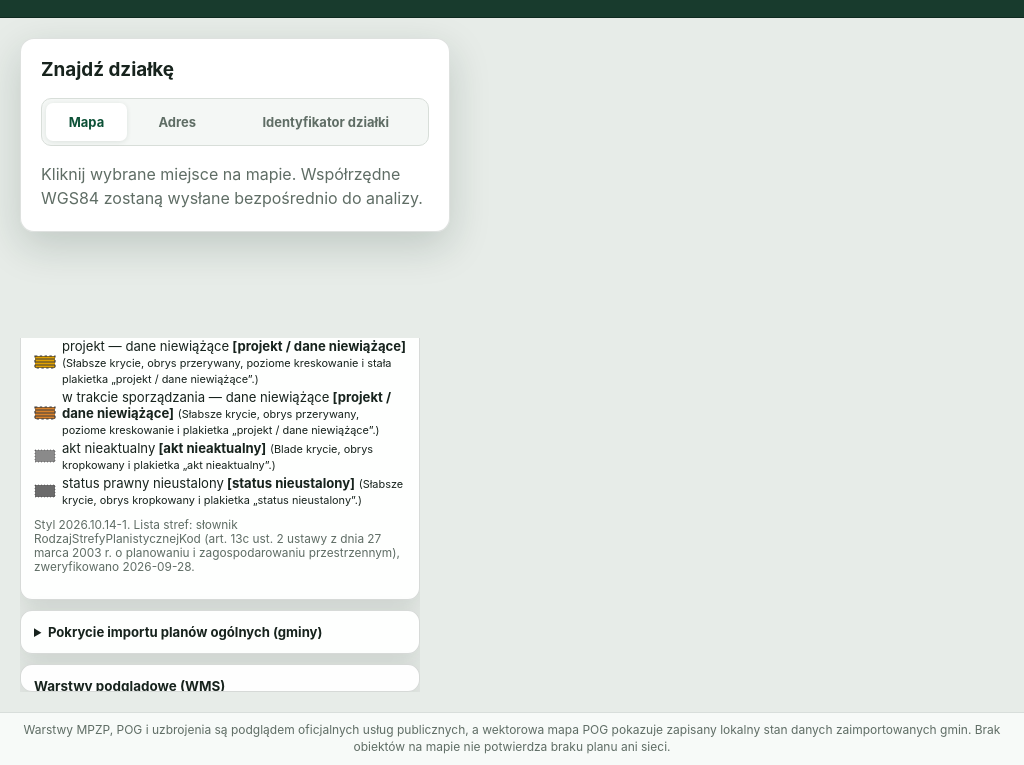
Mapa analityczna POG — scenariusz końcowy › issue 301: panel pokrycia pobiera listę dopiero po rozwinięciu i rozróżnia stany gmin bez „brak planu”
(page scrolled)
Click the heading "Pokrycie importu planów ogólnych (gminy)" at point(185, 632), box [48,624,322,640]
(page scrolled)
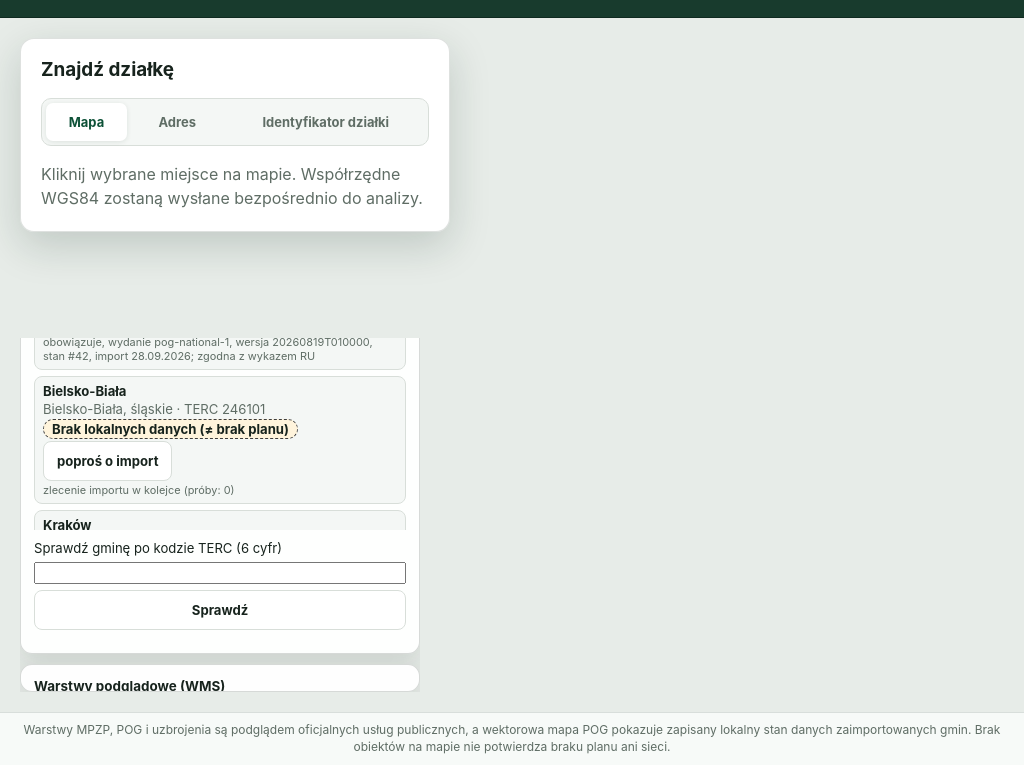
Expected: the list item with test id "pog-coverage-item" shows "Brak lokalnych danych (≠ brak planu)", [52,422,289,438]
Expected: the list item with test id "pog-coverage-item" shows "zlecenie importu w kolejce", [43,484,234,498]
Type "246101" into the field labelled "Sprawdź gminę po kodzie TERC (6 cyfr)" at point(220, 574), box [34,562,406,584]
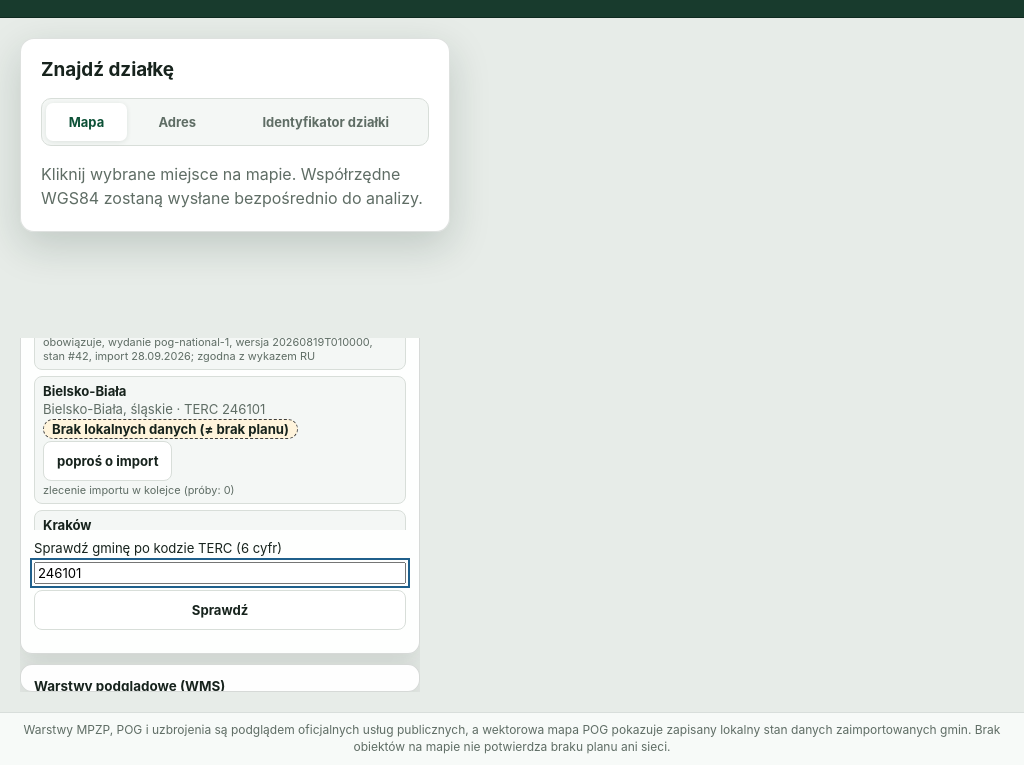
Click the button "Sprawdź" at point(220, 610), box [34,590,406,630]
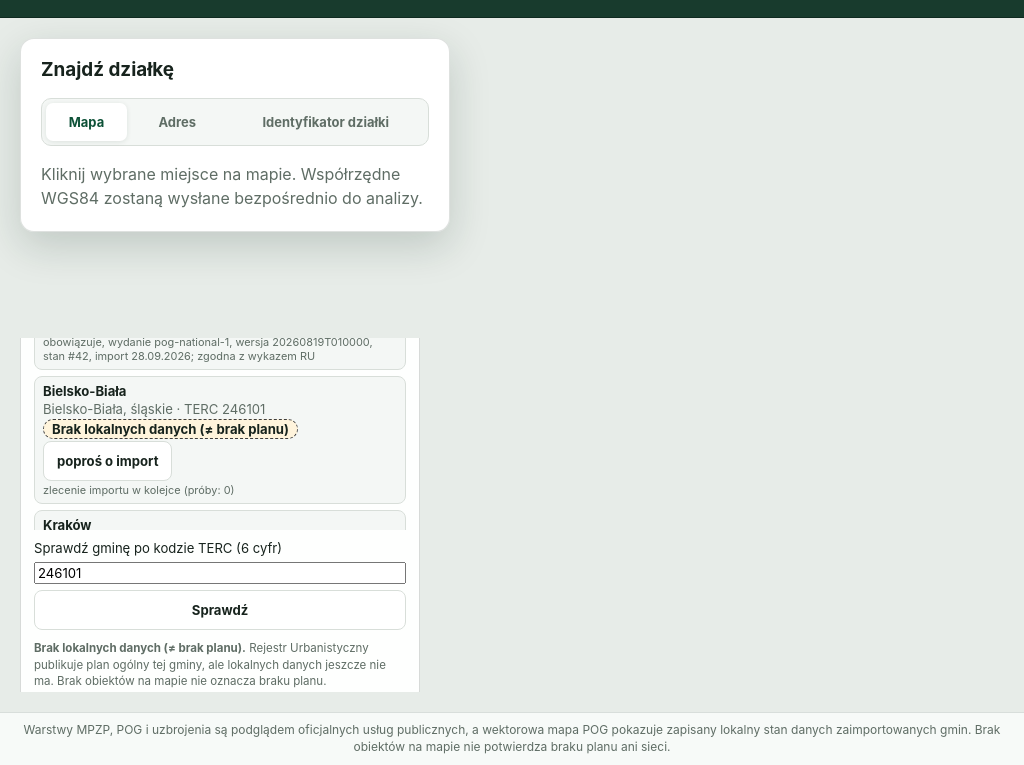
Expected: the element with test id "pog-coverage-lookup" shows "Brak lokalnych danych (≠ brak planu)", [34,642,242,656]
